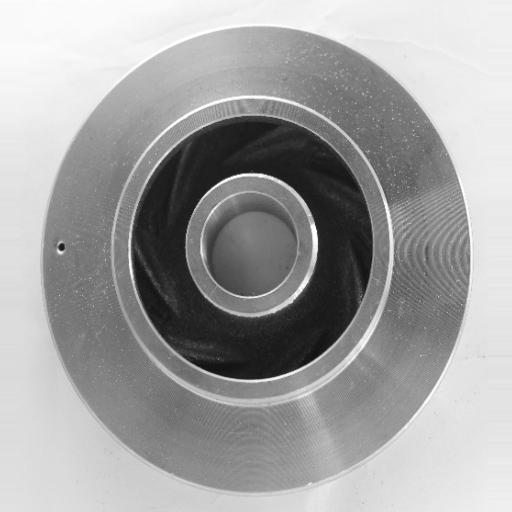pit: (50, 236, 74, 261)
unpolished_casting: (39, 25, 470, 494)
